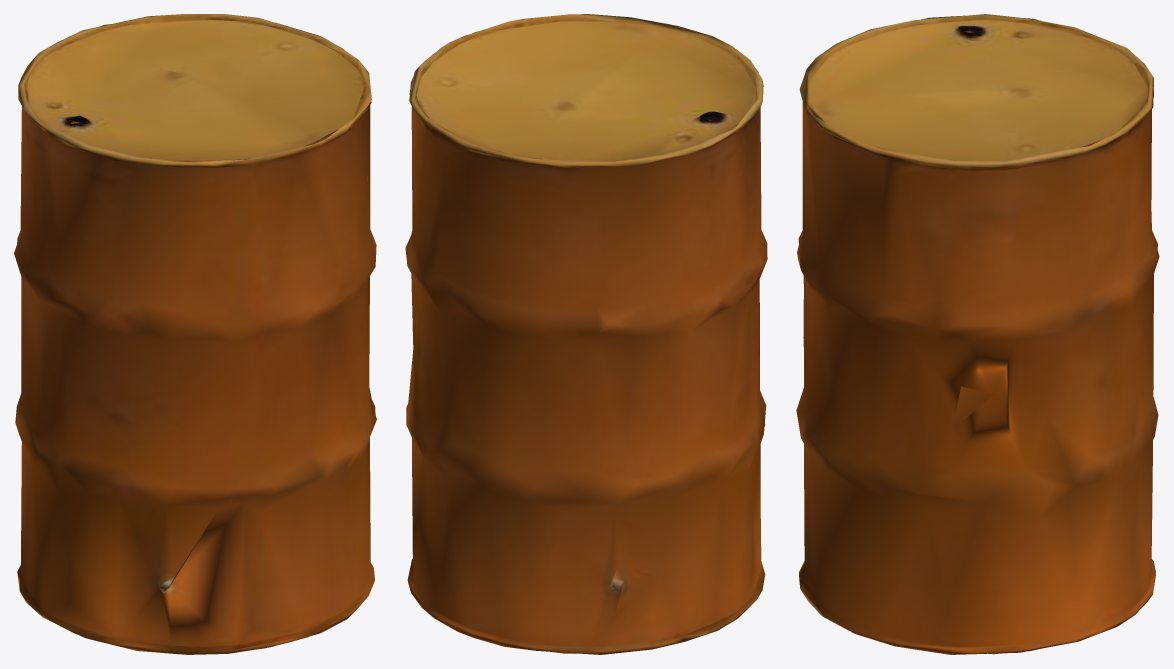
The model's file is barrel.glb.
3 renders of one model, left to right at view 1: azimuth 30°, elevation 25°; view 2: azimuth 150°, elevation 25°; view 3: azimuth 270°, elevation 25°, orthographic.
Visible parts, largest first — view 1: geometry_0; view 2: geometry_0; view 3: geometry_0.
Part boxes in pixels (x1,y1,x2,y2): geometry_0: [14, 14, 376, 654]; geometry_0: [405, 14, 767, 654]; geometry_0: [796, 14, 1159, 654].
Bounding box in the file's own units: 59.76 × 90 × 60.
1 material, 1 textured.
